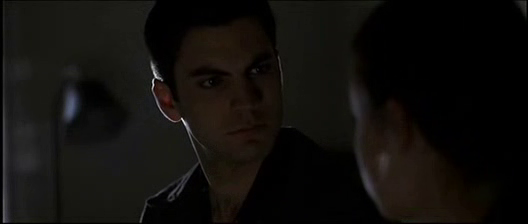cu: (1, 1, 528, 224)
face: (182, 35, 284, 166)
ots: (341, 1, 528, 224)
person: (138, 1, 382, 224)
